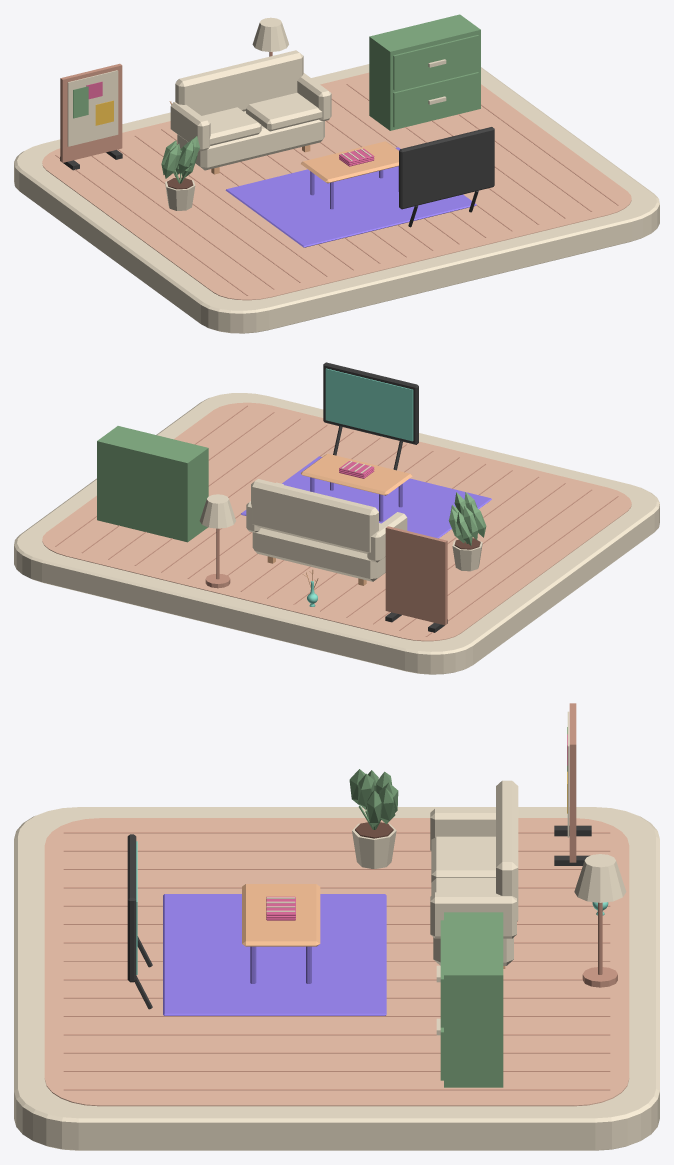
3 views of the same model, one above another, from view 1: azimuth 30°, elevation 25°; view 2: azimuth 150°, elevation 25°; view 3: azimuth 270°, elevation 25° (orthographic). The views are drawn at different scales.
Visible parts, largest first — view 1: COM-02 Floor Surface, COM-01 Rounded Base Direct, Cabinet, Rug, TV frame, Back, Base, Canvas, Panel, Rounded table top, Pot, Seat cushion.001 (+4 smaller); view 2: COM-02 Floor Surface, COM-01 Rounded Base Direct, Cabinet, Back, Panel, Screen, Rug, Base, Rounded table top, Pot, TV frame, Lamp shade (+1 smaller); view 3: COM-02 Floor Surface, COM-01 Rounded Base Direct, Rug, Cabinet, Rounded table top, Pot, Seat cushion, Back, Arm.001, Lamp shade, Arm, TV frame (+8 smaller).
Part boxes in pixels (box(x1,y1,x2,y2)): COM-02 Floor Surface: box(42, 72, 631, 300); COM-01 Rounded Base Direct: box(14, 64, 659, 333); Cabinet: box(369, 14, 480, 130); Rug: box(225, 147, 476, 247); TV frame: box(399, 127, 494, 209); Back: box(175, 50, 303, 115); Base: box(177, 111, 324, 170); Canvas: box(67, 70, 118, 146); Panel: box(60, 63, 122, 162); Rounded table top: box(301, 141, 398, 183); Pot: box(161, 136, 199, 210); Seat cushion.001: box(246, 92, 322, 131); COM-02 Floor Surface: box(42, 402, 631, 641); COM-01 Rounded Base Direct: box(14, 393, 659, 674); Cabinet: box(97, 426, 208, 542); Back: box(251, 479, 378, 553); Panel: box(385, 526, 447, 625); Screen: box(325, 368, 413, 441); Rug: box(241, 456, 491, 538); Base: box(252, 528, 385, 581); Rounded table top: box(301, 453, 412, 495); Pot: box(448, 492, 486, 571); TV frame: box(323, 362, 418, 444); Lamp shade: box(199, 494, 235, 528); COM-02 Floor Surface: box(44, 818, 629, 1106); COM-01 Rounded Base Direct: box(14, 807, 659, 1150); Rug: box(163, 894, 386, 1015); Cabinet: box(436, 912, 503, 1087); Rounded table top: box(242, 884, 320, 946); Pot: box(349, 769, 398, 868); Seat cushion: box(431, 836, 495, 882); Back: box(496, 780, 518, 921); Arm.001: box(430, 892, 516, 938); Lamp shade: box(574, 854, 626, 902); Arm: box(430, 808, 495, 850); TV frame: box(127, 834, 136, 982).
Bounding box in the file's own units: 6 × 1.41 × 5.2.
Materials: 1 (1 with a texture image).
